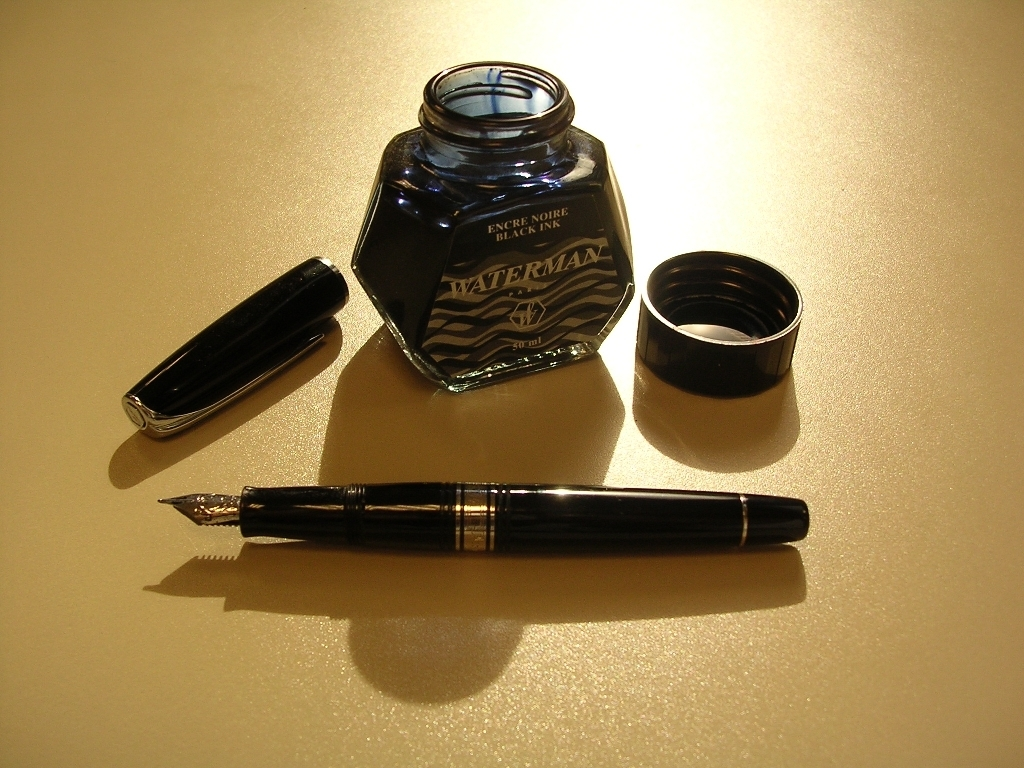Pen: (158, 482, 809, 554)
